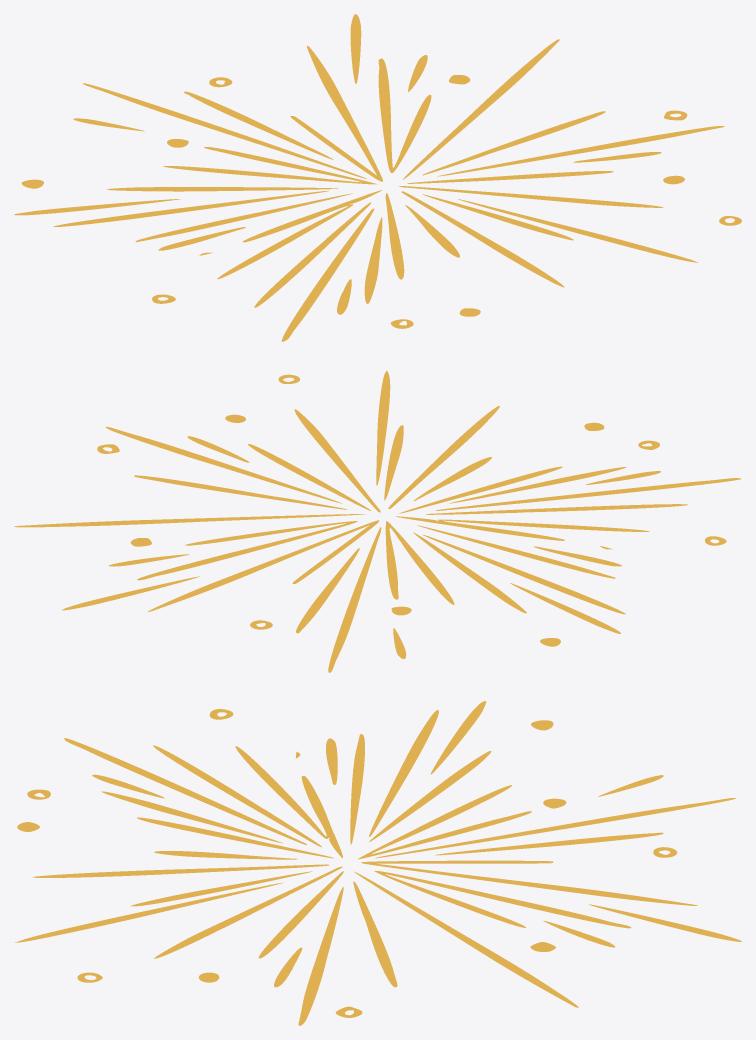
Rendered from feu_artifice.glb.
3 views of the same model, one above another, from view 1: azimuth 30°, elevation 25°; view 2: azimuth 150°, elevation 25°; view 3: azimuth 270°, elevation 25° (orthographic). The views are drawn at different scales.
Visible parts, largest first — view 1: Curve.002, Curve.006, Curve.012, Curve.019, Curve.001, Curve.022, Curve.008, Curve.028, Curve.015, Curve.033, Curve.025, Curve.020 (+11 smaller); view 2: Curve.002, Curve.006, Curve.019, Curve.008, Curve.012, Curve.028, Curve.022, Curve.001, Curve.015, Curve.026, Curve.025, Curve.033 (+11 smaller); view 3: Curve.002, Curve.006, Curve.012, Curve.019, Curve.001, Curve.008, Curve.028, Curve.022, Curve.025, Curve.033, Curve.015, Curve.020 (+12 smaller).
Part boxes in pixels (x1,y1,x2,y2): Curve.002: (290, 46, 382, 181); Curve.006: (378, 58, 431, 172); Curve.012: (163, 147, 376, 184); Curve.019: (217, 190, 382, 279); Curve.001: (83, 83, 366, 178); Curve.022: (437, 126, 724, 176); Curve.008: (403, 39, 559, 179); Curve.028: (281, 208, 374, 341); Curve.015: (53, 190, 328, 227); Curve.033: (458, 199, 698, 262); Curve.025: (401, 191, 564, 287); Curve.020: (399, 186, 663, 207); Curve.002: (148, 520, 379, 611); Curve.006: (137, 521, 357, 580); Curve.019: (395, 516, 649, 540); Curve.008: (14, 514, 365, 527); Curve.012: (385, 521, 454, 604); Curve.028: (436, 478, 741, 510); Curve.022: (106, 426, 341, 503); Curve.001: (328, 527, 381, 672); Curve.015: (423, 534, 625, 614); Curve.026: (425, 504, 687, 514); Curve.025: (388, 406, 499, 508); Curve.033: (376, 370, 390, 485); Curve.002: (361, 860, 697, 905); Curve.006: (374, 870, 631, 928); Curve.012: (358, 785, 531, 859); Curve.019: (235, 746, 342, 858); Curve.001: (375, 798, 735, 858); Curve.008: (354, 871, 578, 1007); Curve.028: (64, 738, 306, 845); Curve.022: (298, 887, 343, 1025); Curve.025: (33, 864, 329, 877); Curve.033: (15, 882, 282, 942); Curve.015: (369, 710, 438, 836); Curve.020: (154, 866, 342, 958).
Bounding box in the file's own units: 0.0296 × 0 × 0.028.
